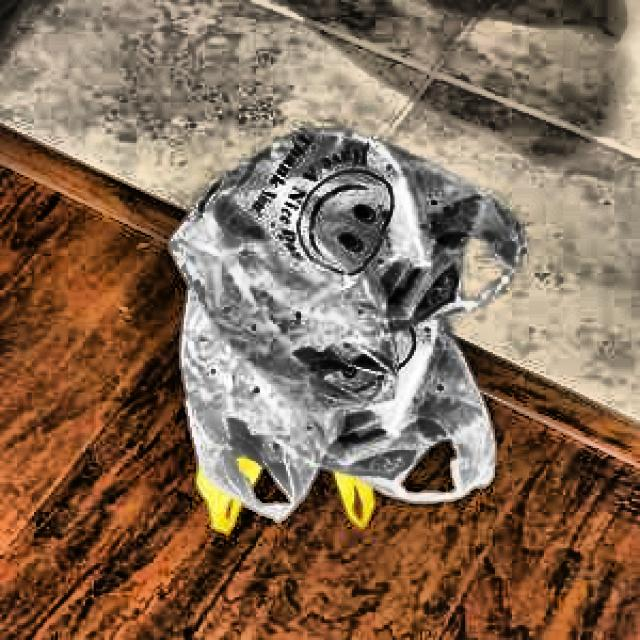Plastic: (156, 117, 527, 528)
